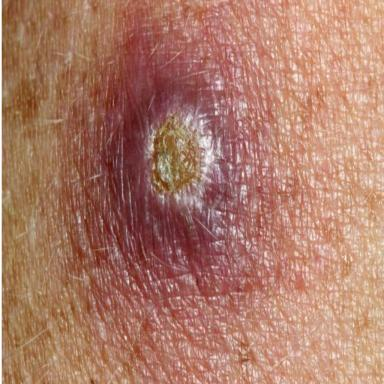Leishmanios: (102, 19, 262, 296)
